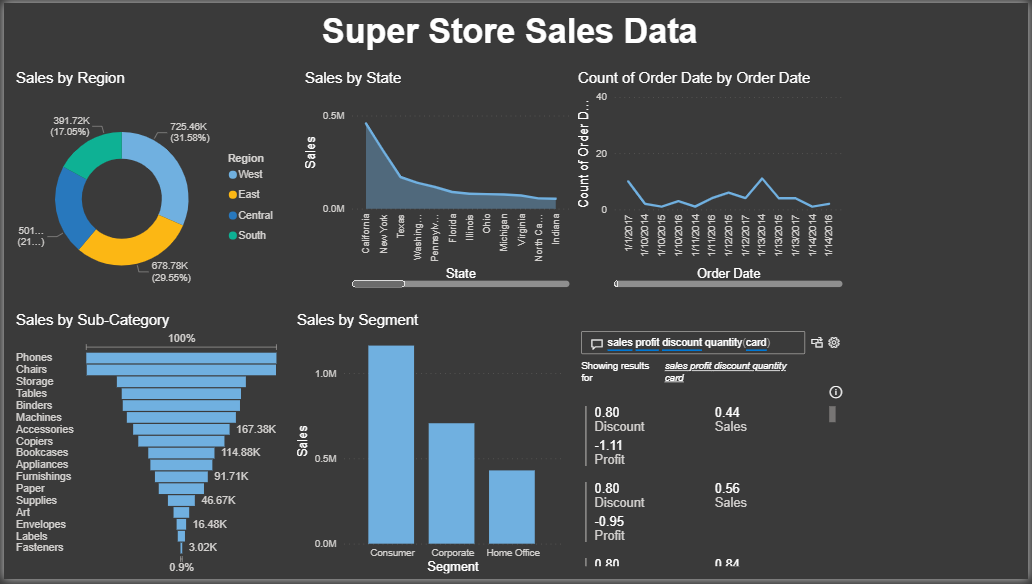

The page's visual inventory and layout, read from the dashboard file:
{"tool":"powerbi","page":{"name":"Page 1","canvas":[1280,720],"ordinal":0},"visuals":[{"type":"donutChart","fields":{"Category":["Sample - Superstore.Region"],"Y":["Sum(Sample - Superstore.Sales)"]},"box":[10.3,82.2,340.6,303.3],"z":0},{"type":"funnel","fields":{"Category":["Sample - Superstore.Sub-Category"],"Y":["Sum(Sample - Superstore.Sales)"]},"box":[10.3,385.5,340.6,334.1],"z":1},{"type":"areaChart","fields":{"Category":["Sample - Superstore.State"],"Y":["Sum(Sample - Superstore.Sales)"]},"box":[371.4,82.2,340.6,277.6],"z":2},{"type":"columnChart","fields":{"Y":["Sum(Sample - Superstore.Sales)"],"Category":["Sample - Superstore.Segment"]},"box":[361.1,385.5,340.6,332.9],"z":3},{"type":"lineChart","fields":{"Category":["Sample - Superstore.Order Date"],"Y":["CountNonNull(Sample - Superstore.Order Date)"]},"box":[712,82.2,340.6,277.6],"z":4},{"type":"textbox","box":[1063,0,217,344],"z":6},{"type":"qnaVisual","box":[712,385.5,340.6,332.9],"z":7},{"type":"textbox","box":[392,6.4,494.8,75.8],"z":8}]}

Visuals, with their boxes in screenshot pixels (x1, y1, x2, y2), scaled from the page's 1280x720 canvas onto the 1032x584 screenshot:
donutChart - Sample - Superstore.Region x Sum(Sample - Superstore.Sales): (8,67,283,313)
funnel - Sample - Superstore.Sub-Category x Sum(Sample - Superstore.Sales): (8,313,283,583)
areaChart - Sample - Superstore.State x Sum(Sample - Superstore.Sales): (299,67,574,292)
columnChart - Sum(Sample - Superstore.Sales) x Sample - Superstore.Segment: (291,313,566,583)
lineChart - Sample - Superstore.Order Date x CountNonNull(Sample - Superstore.Order Date): (574,67,849,292)
textbox: (857,0,1031,279)
qnaVisual: (574,313,849,583)
textbox: (316,5,715,67)
